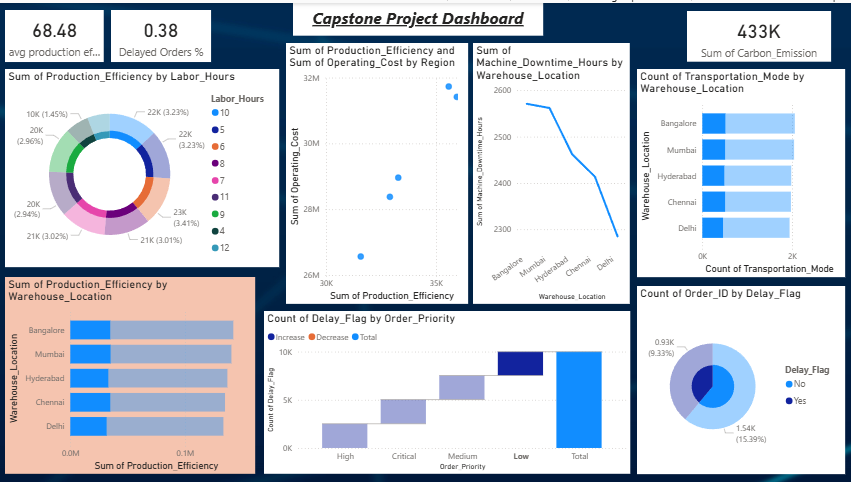

What the dashboard file says about the page in this screenshot:
{"tool":"powerbi","page":{"name":"Page 1","canvas":[1280,720],"ordinal":0},"visuals":[{"type":"barChart","fields":{"Y":["Sum(Operations_Capstone_Dataset_10000_rows.Production_Efficiency)"],"Category":["Operations_Capstone_Dataset_10000_rows.Warehouse_Location"]},"box":[10.5,410.7,374.7,295.3],"z":0},{"type":"card","fields":{"Values":["Operations_Capstone_Dataset_10000_rows.avg production efficiency"]},"box":[10.5,10.5,148.4,77.9],"z":1000},{"type":"pieChart","fields":{"Category":["operations.Delay_Flag"],"Y":["CountNonNull(operations.Order_ID)"]},"box":[957.8,424.2,311.8,281.8],"z":2000},{"type":"card","fields":{"Values":["operations.Delayed Orders %"]},"box":[169.4,10.5,149.9,77.9],"z":3000},{"type":"barChart","fields":{"Category":["operations.Warehouse_Location"],"Y":["CountNonNull(operations.Transportation_Mode)"]},"box":[957.8,98.9,311.8,311.8],"z":4000},{"type":"lineChart","fields":{"Y":["Sum(operations.Machine_Downtime_Hours)"],"Category":["operations.Warehouse_Location"]},"box":[711.9,60,235.3,391.2],"z":5000},{"type":"donutChart","fields":{"Y":["Sum(operations.Production_Efficiency)"],"Category":["operations.Labor_Hours"]},"box":[10.5,98.9,410.7,296.8],"z":5001},{"type":"waterfallChart","fields":{"Category":["operations.Order_Priority"],"Y":["CountNonNull(operations.Delay_Flag)"]},"box":[398.7,461.6,548.6,244.3],"z":5002},{"type":"textbox","box":[442.2,0,374.7,49.5],"z":5003},{"type":"card","fields":{"Values":["Sum(operations.Carbon_Emission)"]},"box":[1032.7,12,215.8,76.4],"z":5004},{"type":"scatterChart","fields":{"Category":["operations.Region"],"X":["Sum(operations.Production_Efficiency)"],"Y":["Sum(operations.Operating_Cost)"]},"box":[431.7,60,272.8,391.2],"z":5006}]}

Visuals, with their boxes in screenshot pixels (x1, y1, x2, y2), scaled from the page's 1280x720 canvas onto the 851x482 screenshot:
barChart - Sum(Operations_Capstone_Dataset_10000_rows.Production_Efficiency) x Operations_Capstone_Dataset_10000_rows.Warehouse_Location: 7,275,256,473
card - Operations_Capstone_Dataset_10000_rows.avg production efficiency: 7,7,106,59
pieChart - operations.Delay_Flag x CountNonNull(operations.Order_ID): 637,284,844,473
card - operations.Delayed Orders %: 113,7,212,59
barChart - operations.Warehouse_Location x CountNonNull(operations.Transportation_Mode): 637,66,844,275
lineChart - Sum(operations.Machine_Downtime_Hours) x operations.Warehouse_Location: 473,40,630,302
donutChart - Sum(operations.Production_Efficiency) x operations.Labor_Hours: 7,66,280,265
waterfallChart - operations.Order_Priority x CountNonNull(operations.Delay_Flag): 265,309,630,473
textbox: 294,0,543,33
card - Sum(operations.Carbon_Emission): 687,8,830,59
scatterChart - operations.Region x Sum(operations.Production_Efficiency): 287,40,468,302
